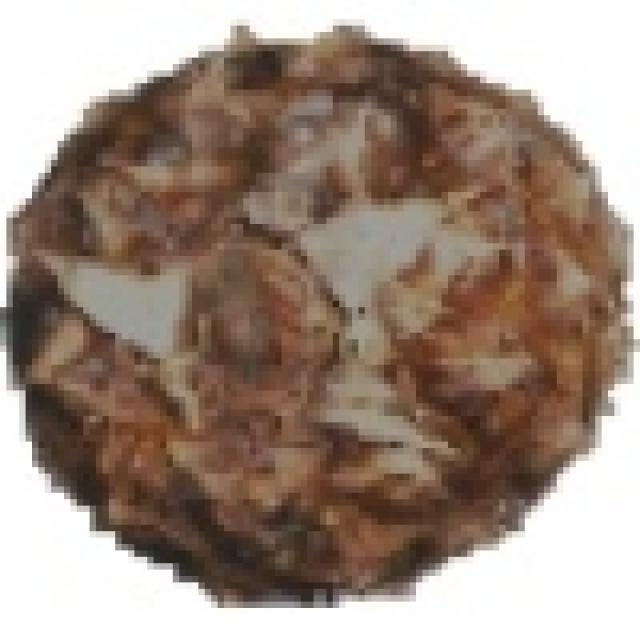pineapple: (26, 19, 634, 589)
